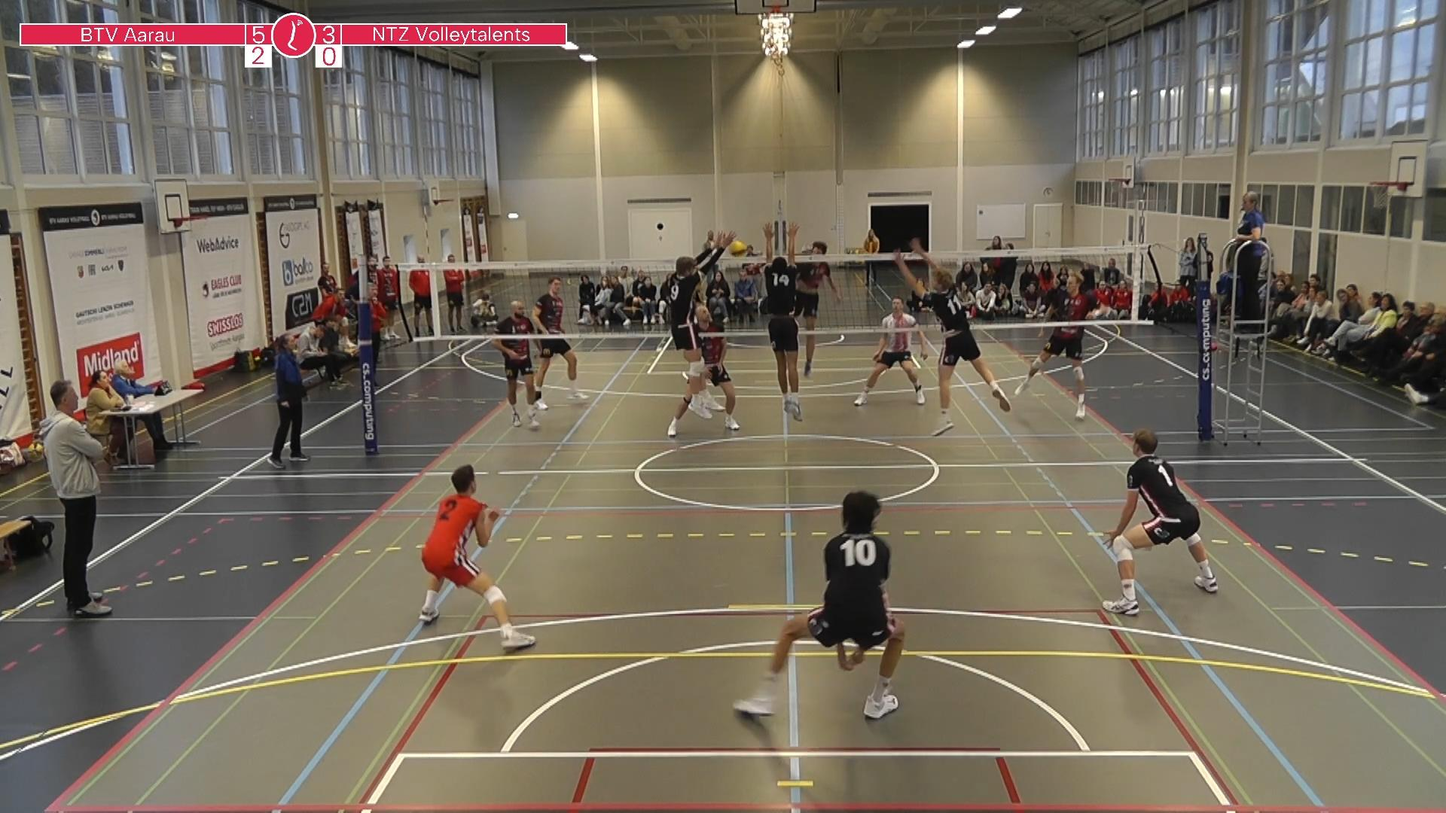Attack: (785, 223, 839, 384)
Block: (890, 230, 1014, 437), (656, 222, 733, 422), (752, 216, 814, 422)
Player: (734, 492, 904, 718), (1103, 429, 1218, 615), (420, 465, 535, 651), (1014, 273, 1100, 420), (854, 297, 926, 406), (493, 300, 538, 427), (696, 305, 740, 431), (535, 339, 586, 410)
ball: (722, 231, 750, 258)
